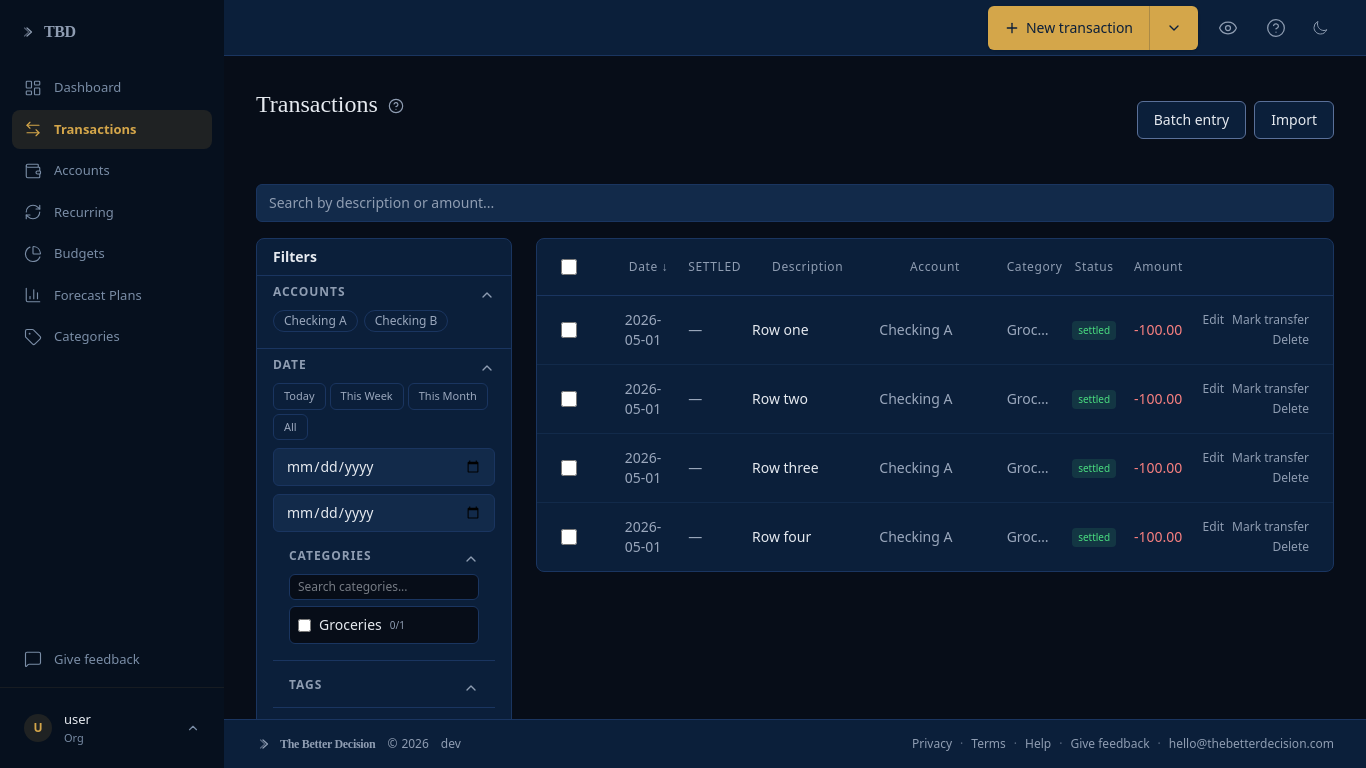
it: TransactionsPage — bulk-delete banner counts (TBD-290) › two already gone: the skipped sentence pluralises
Expected: the button with aria-label "Edit:" is shown, [1203,312,1224,328]
What coordinates should you click on to do the following:
click the checkbox named "Select transaction 1"
I would click on:
 (569, 330)
Its box is [561,322,577,338].
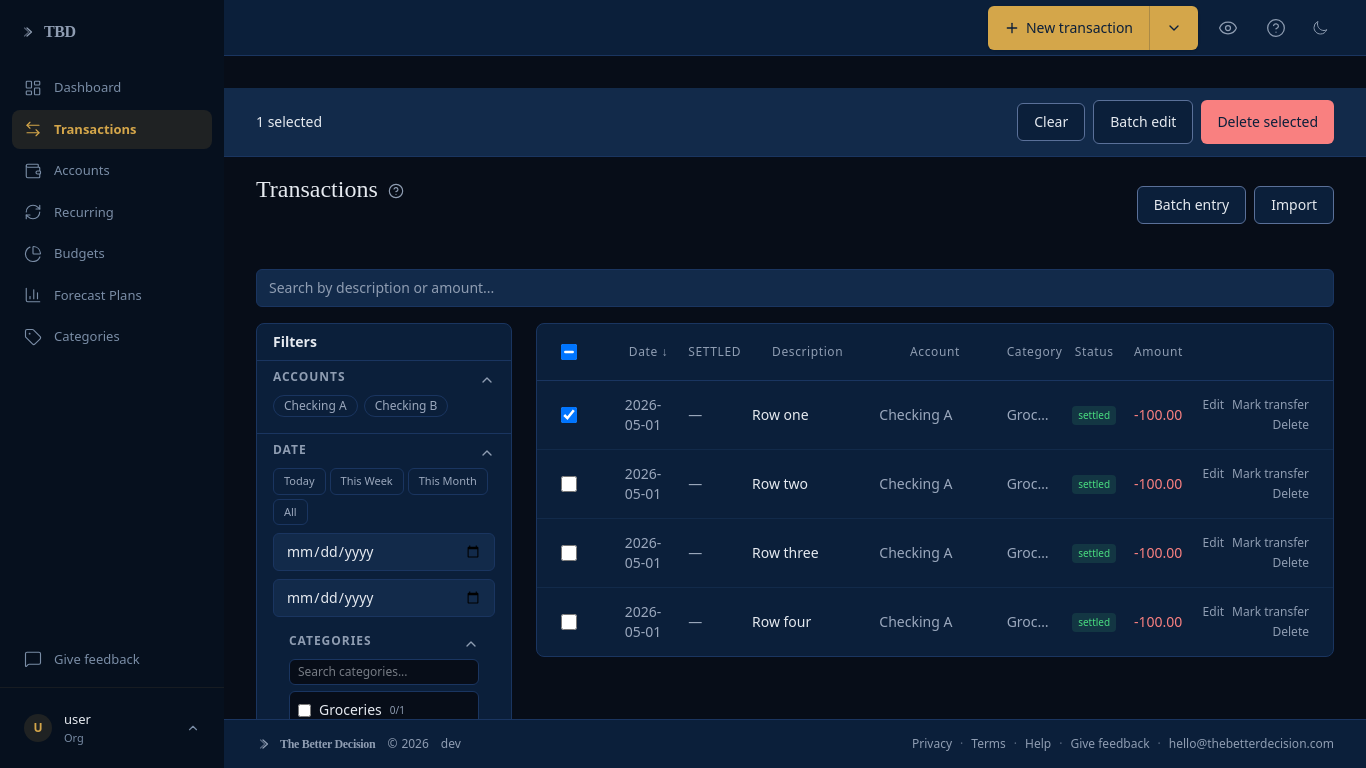
What coordinates should you click on to do the following:
click the checkbox named "Select transaction 2"
I would click on:
 (569, 484)
Its box is [561,476,577,492].
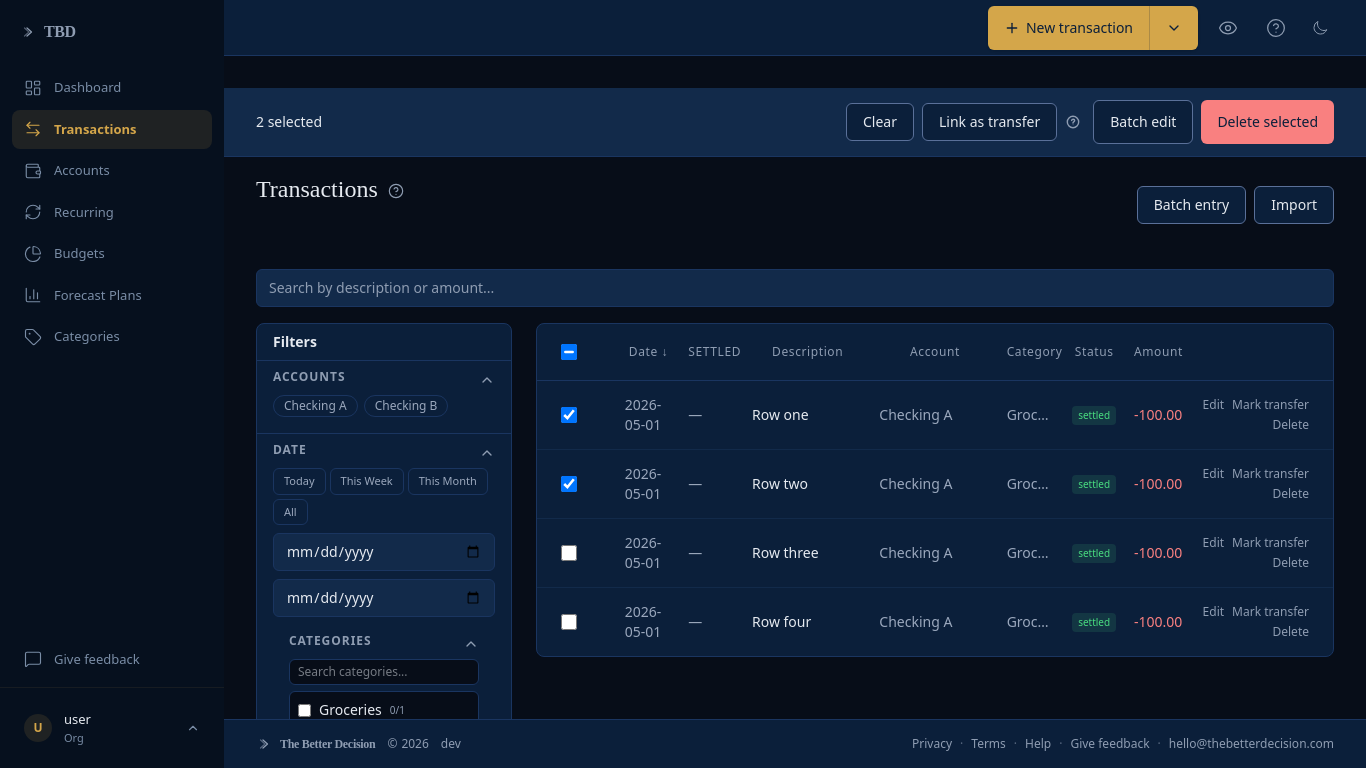
What coordinates should you click on to do the following:
click the checkbox named "Select transaction 3"
I would click on:
 (569, 553)
Its box is [561,545,577,561].
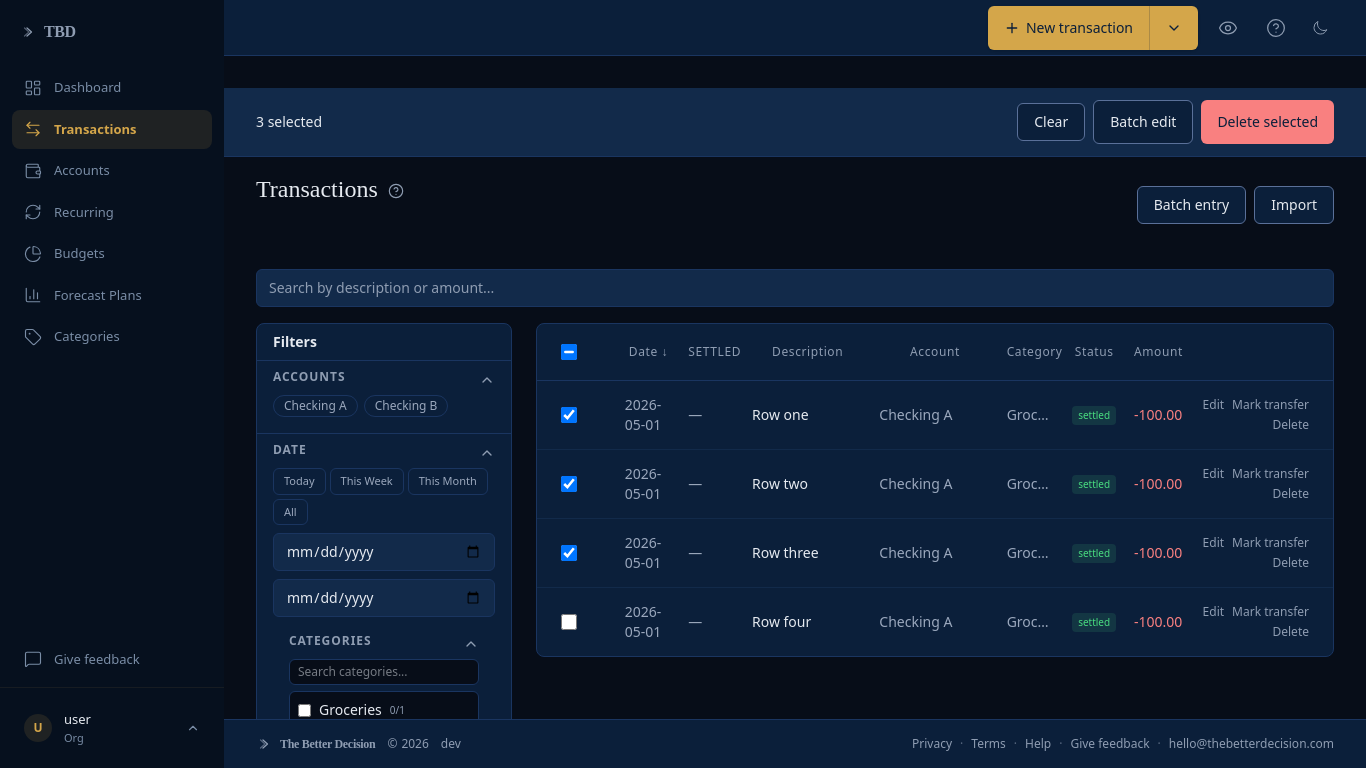
What coordinates should you click on to do the following:
click the checkbox named "Select transaction 4"
I would click on:
 (569, 622)
Its box is [561,614,577,630].
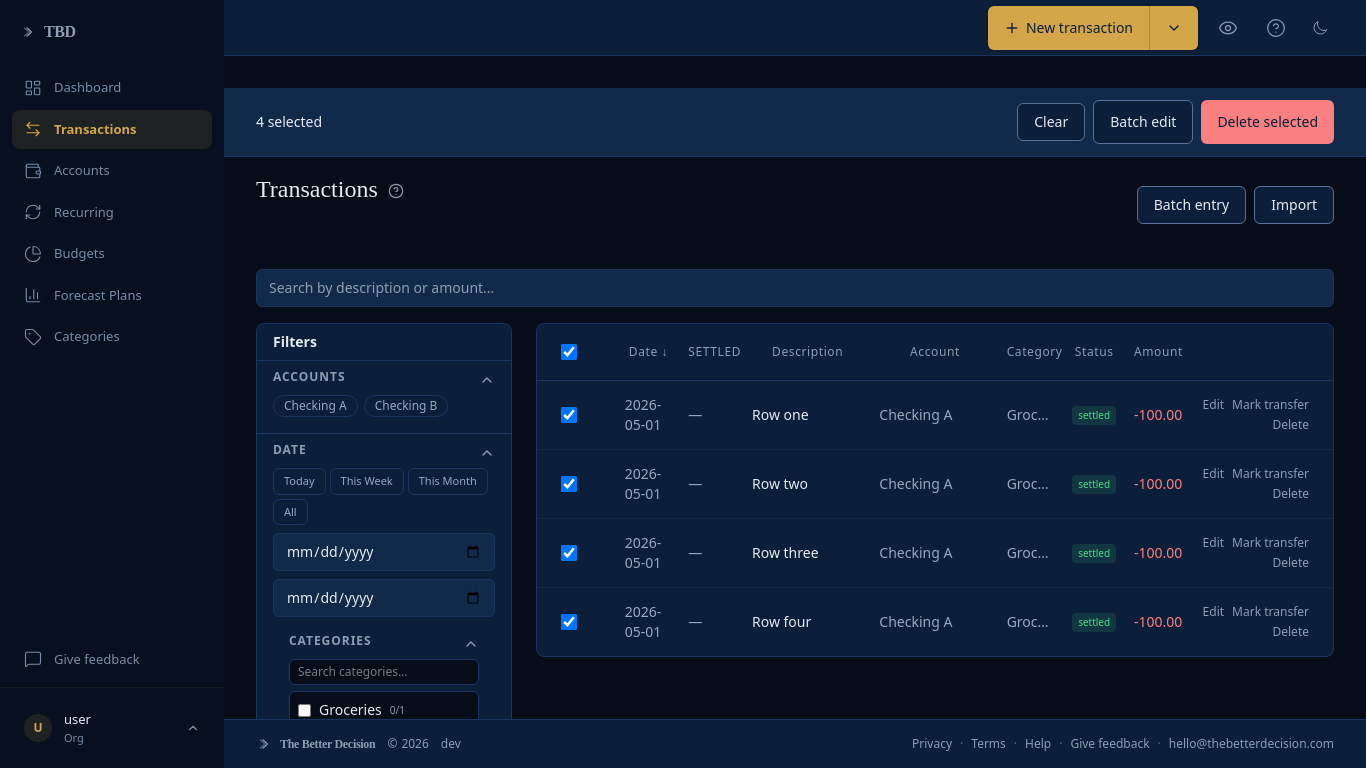
What coordinates should you click on to do the following:
click the button "Delete selected"
I would click on:
 (1268, 122)
Its box is [1201,100,1334,144].
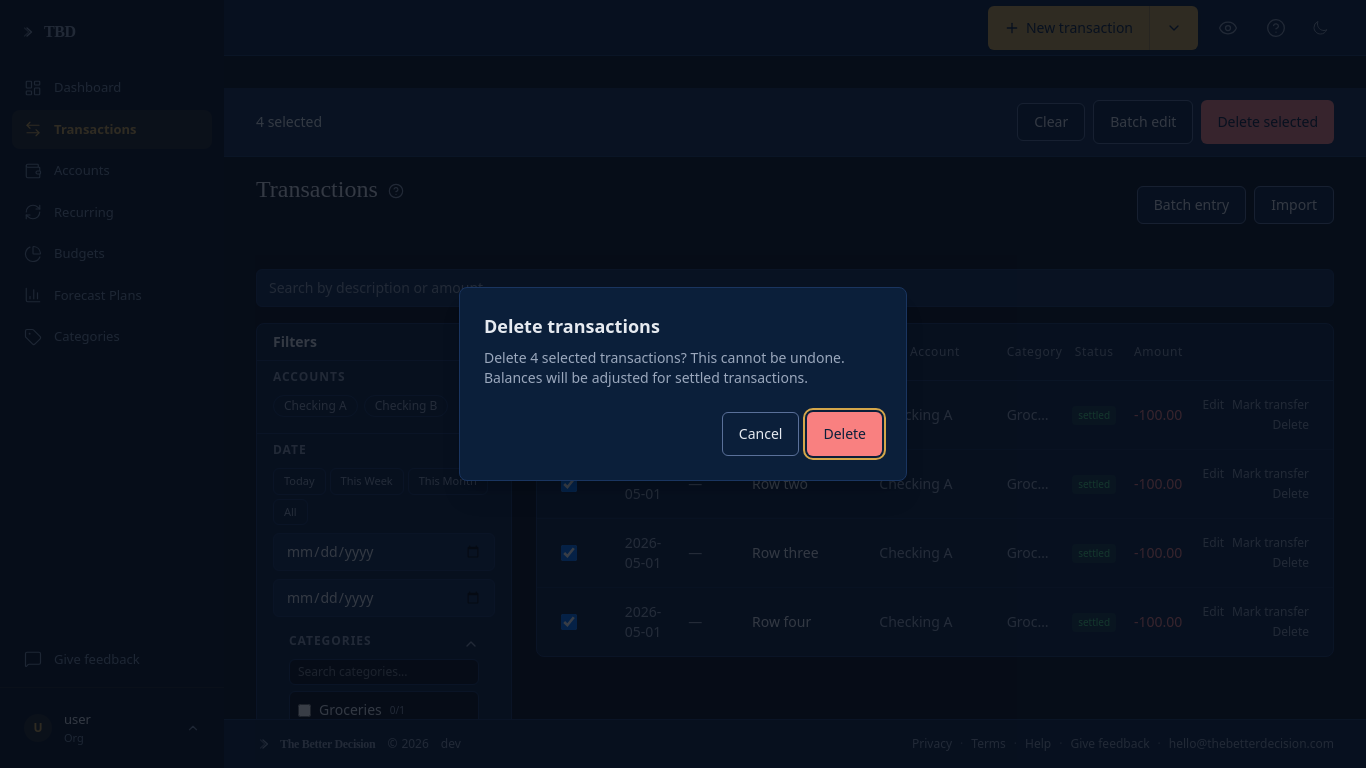
What coordinates should you click on to do the following:
click the button "Delete"
I would click on:
 (845, 434)
Its box is [807,412,882,456].
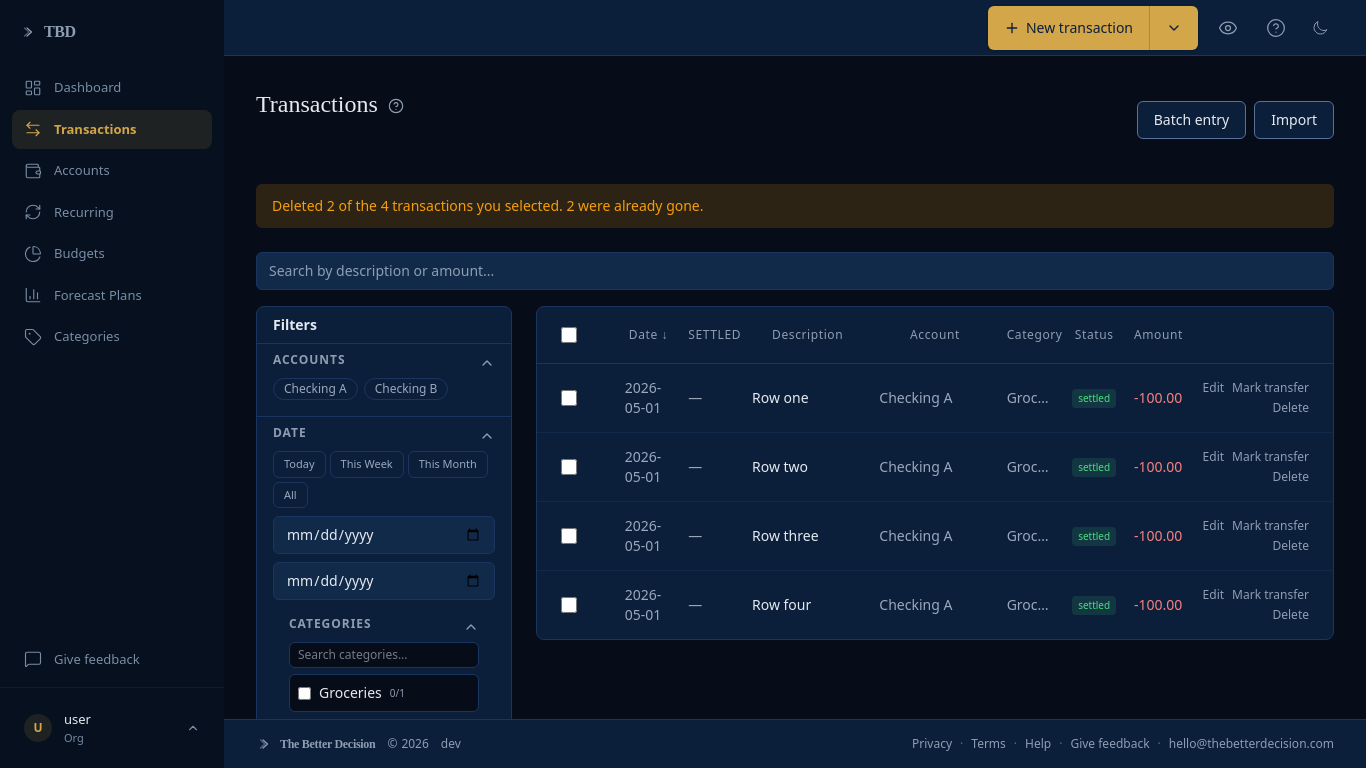
Result: the text "Deleted " reads "Deleted 2 of the 4 transactions you selected. 2 were already gone." at [272,196,704,215]
Result: the text "Deleted " shows "2 were already gone" at [272,196,704,215]
